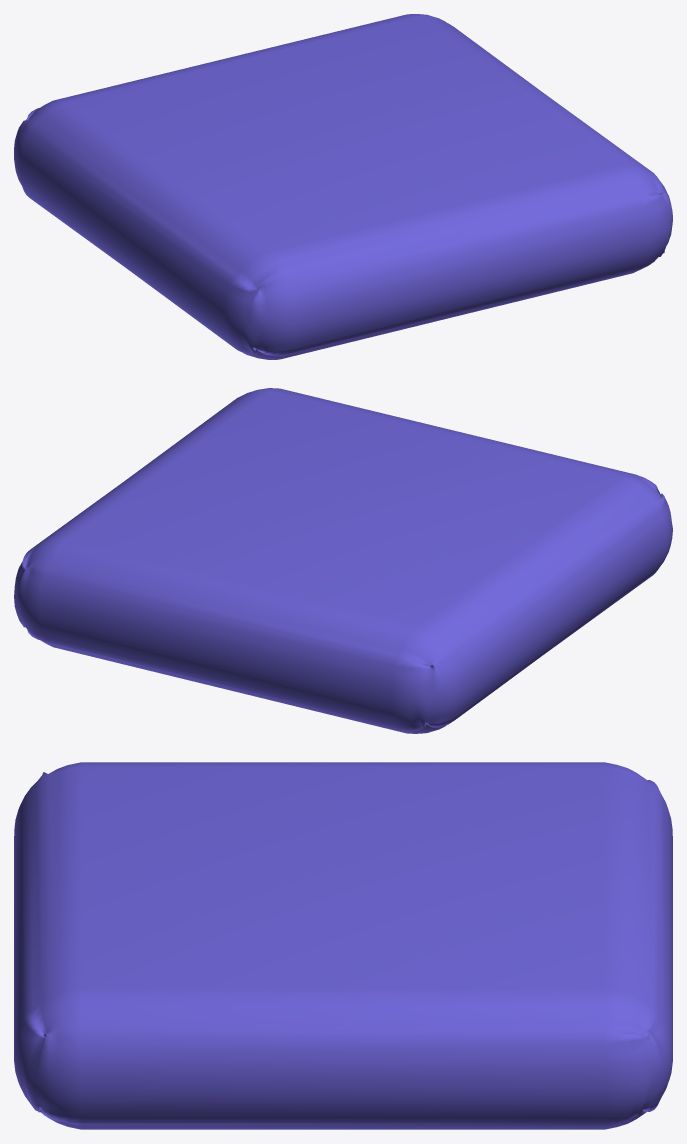
File: badge_kotlin.glb
3 renders of one model, top to bottom at view 1: azimuth 30°, elevation 25°; view 2: azimuth 150°, elevation 25°; view 3: azimuth 270°, elevation 25°, orthographic. The views are drawn at different scales.
Parts seen in each view (by area): view 1: badge_kotlin; view 2: badge_kotlin; view 3: badge_kotlin.
Part boxes in pixels (x1,y1,x2,y2): badge_kotlin: [14, 14, 672, 359]; badge_kotlin: [14, 388, 672, 733]; badge_kotlin: [14, 762, 672, 1129].
Size of the model in its own units: 1.54 by 0.3499 by 1.54.
